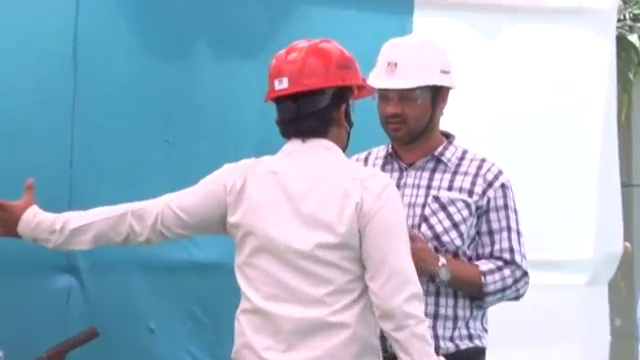helmet: (261, 34, 374, 101), (365, 31, 459, 91)
helmet_on: (260, 33, 374, 154), (364, 30, 459, 164)
person: (1, 34, 436, 359), (352, 30, 531, 360)
